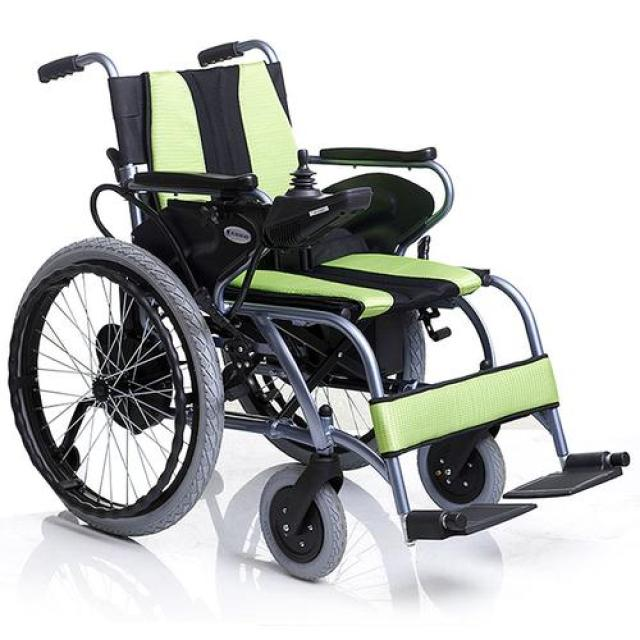wheelchairs: (3, 36, 630, 612)
